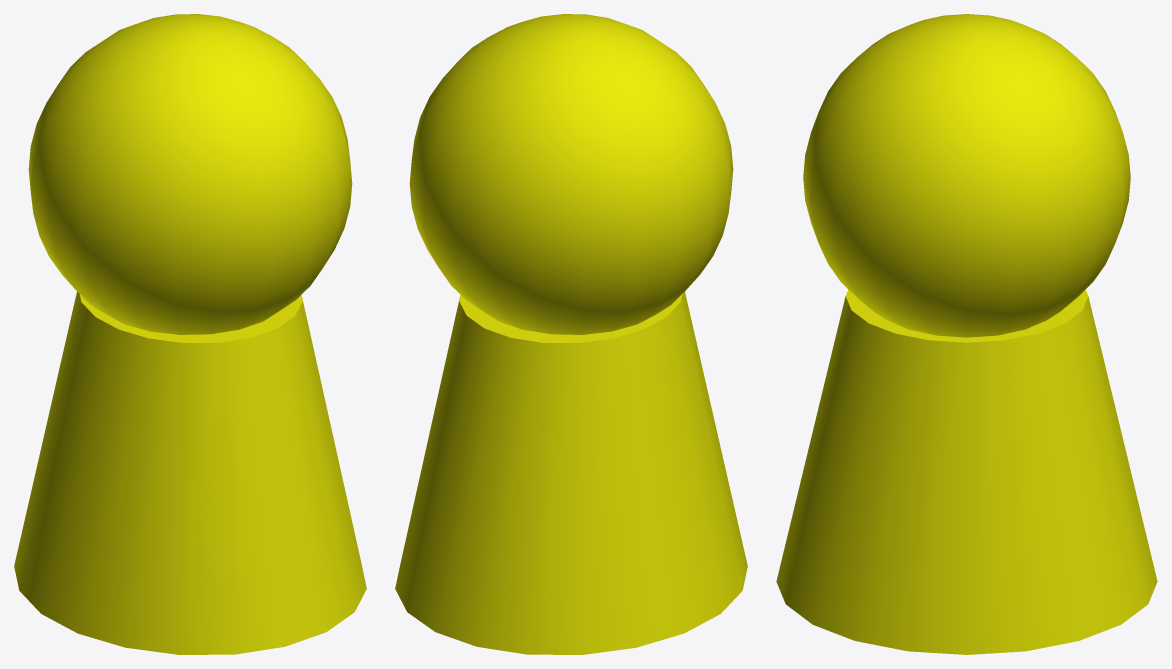
Rendered from player_3.fbx.
3 views of the same model, side by side, from view 1: azimuth 30°, elevation 25°; view 2: azimuth 150°, elevation 25°; view 3: azimuth 270°, elevation 25° (orthographic).
Visible parts, largest first — view 1: pCylinder2; view 2: pCylinder2; view 3: pCylinder2.
Part boxes in pixels (x1,y1,x2,y2): pCylinder2: (14,14,366,654); pCylinder2: (395,14,747,654); pCylinder2: (776,14,1157,654).
Size of the model in its own units: 72.69 by 128 by 79.83.
